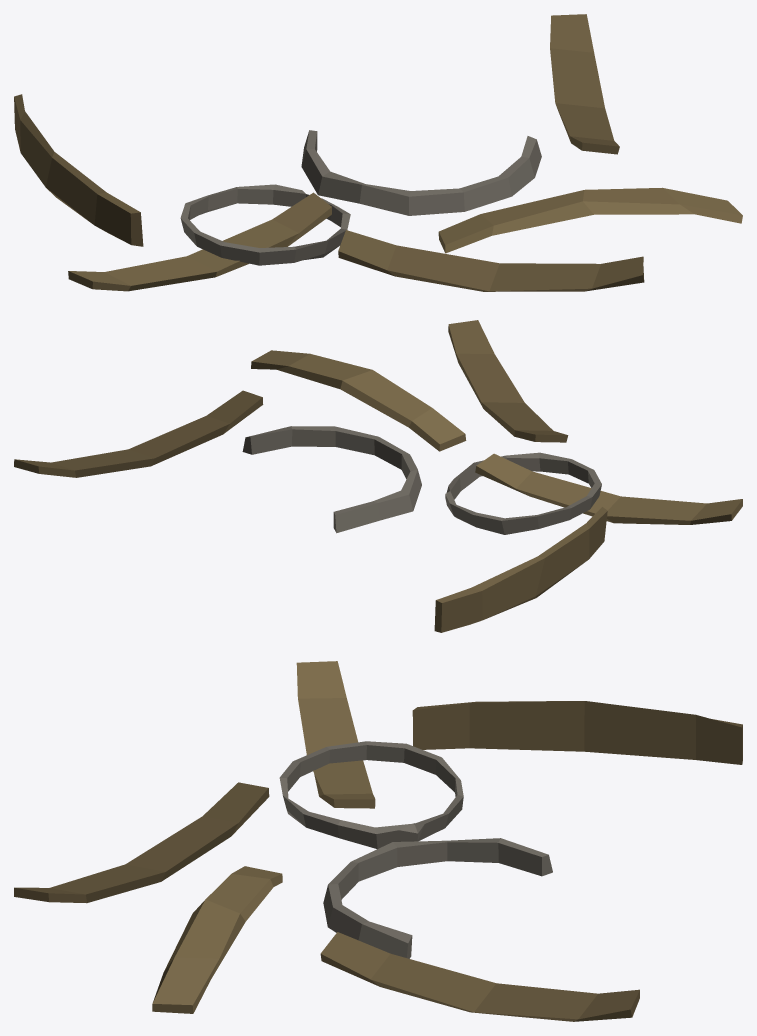
The model's file is Trash_2.fbx.
3 views of the same model, one above another, from view 1: azimuth 30°, elevation 25°; view 2: azimuth 150°, elevation 25°; view 3: azimuth 270°, elevation 25° (orthographic). The views are drawn at different scales.
Visible parts, largest first — view 1: Trash_2; view 2: Trash_2; view 3: Trash_2.
Boxes of the visible parts, box(x1,y1,x2,y2) form: Trash_2: box(14, 14, 742, 291); Trash_2: box(14, 320, 742, 632); Trash_2: box(14, 661, 742, 1021).
Size of the model in its own units: 227 by 15.95 by 202.
